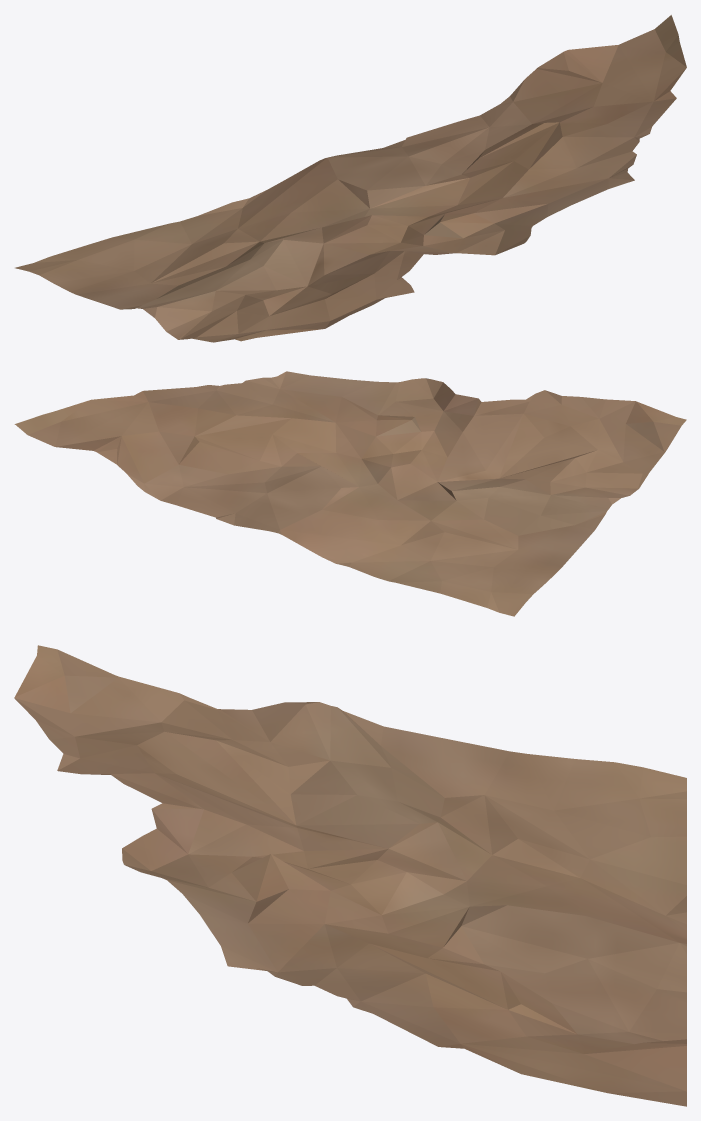
3 views of the same model, one above another, from view 1: azimuth 30°, elevation 25°; view 2: azimuth 150°, elevation 25°; view 3: azimuth 270°, elevation 25° (orthographic). The views are drawn at different scales.
Bounding box in the file's own units: 0.8066 × 0.1087 × 0.4995.
1 material, 1 textured.
